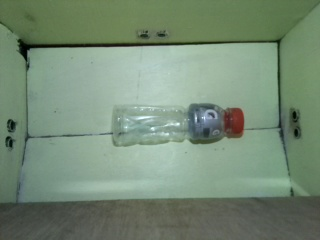bottle: (110, 103, 247, 148)
